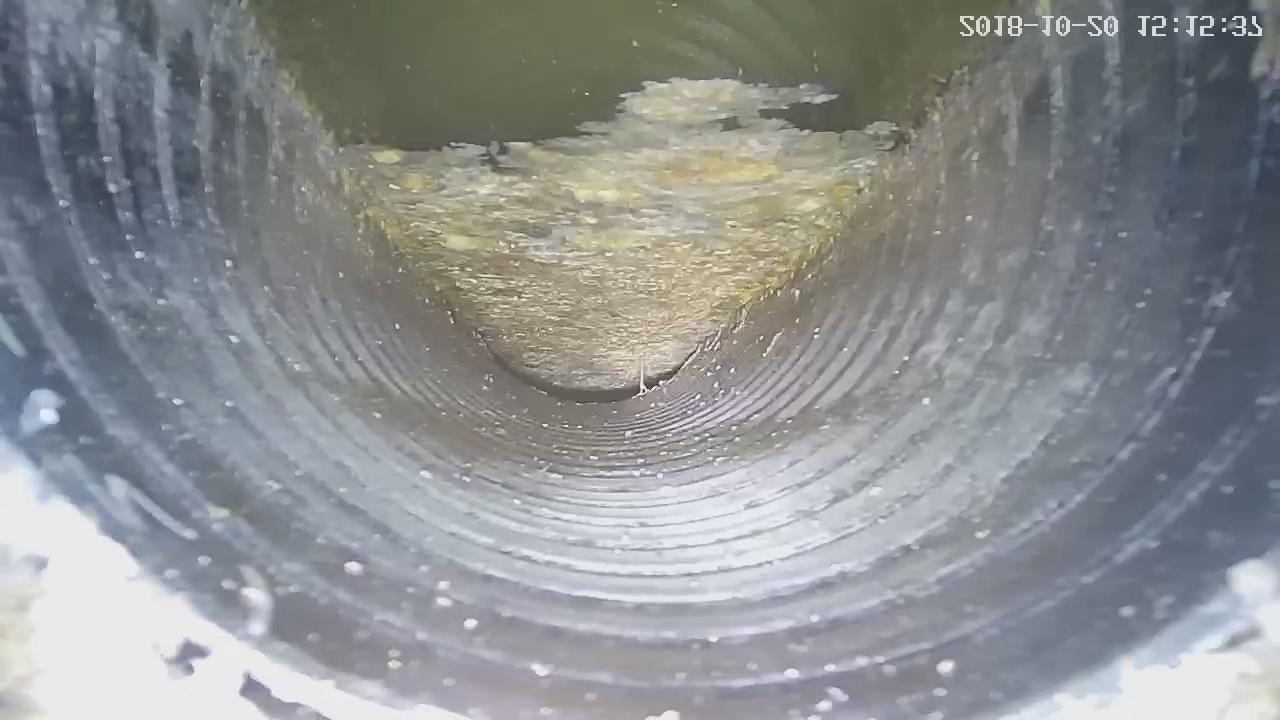FZ: (348, 79, 899, 390)
